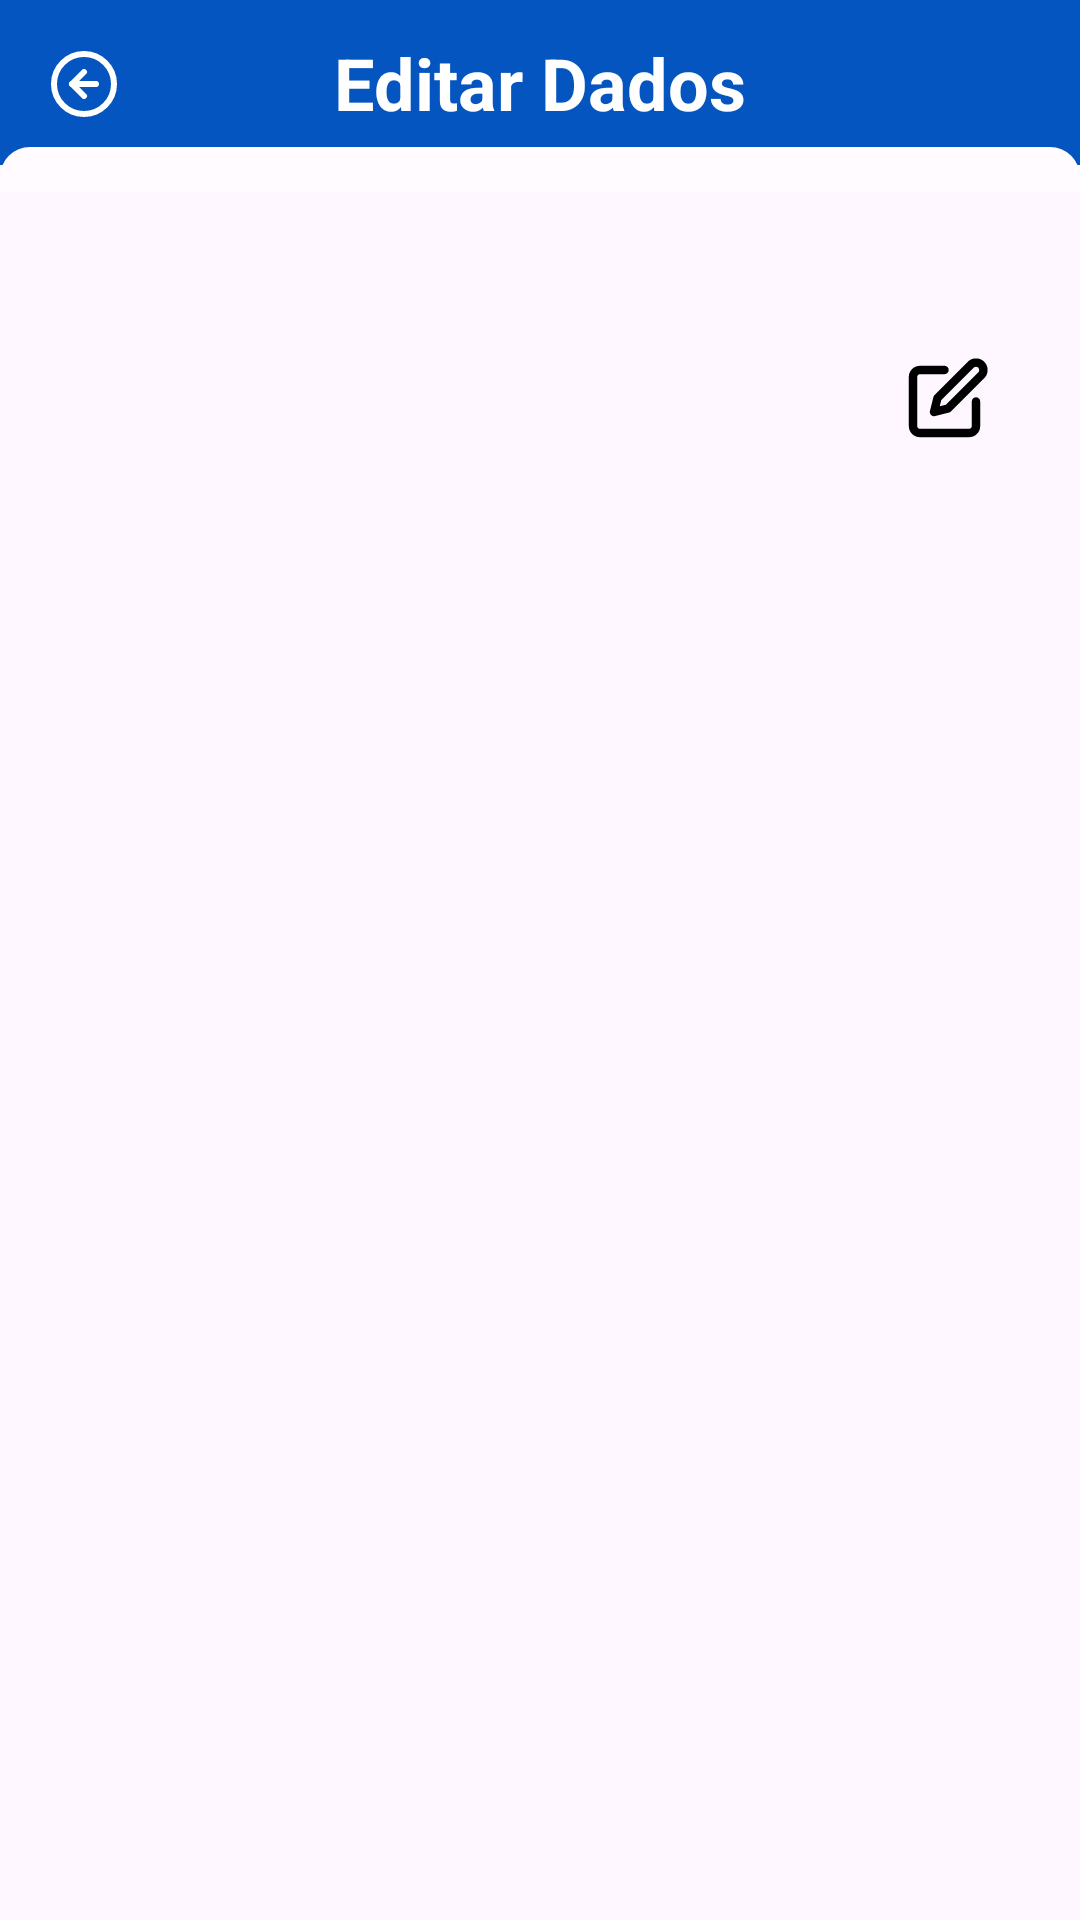

Locate icon controls on the screen. Image size 1080×1920, boxes as (x1=x1, y1=y1, x2=x2, y2=y2).
Editar: (x1=908, y1=358, x2=988, y2=438)
Voltar: (x1=51, y1=51, x2=117, y2=117)
